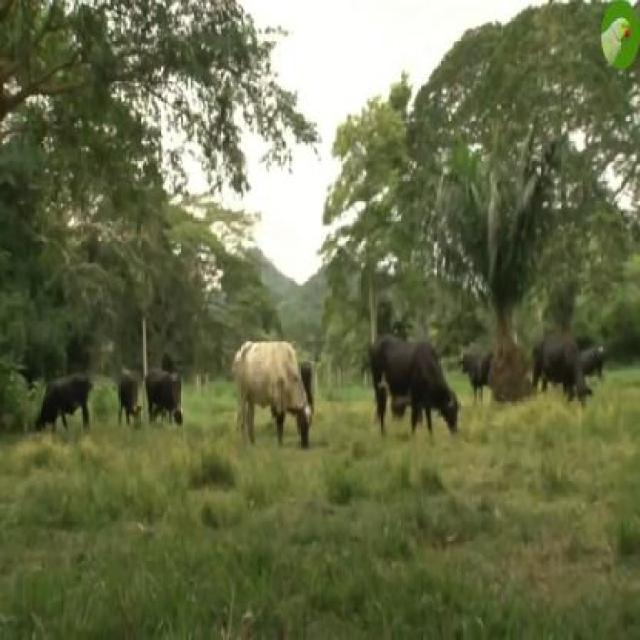Cow: (371, 335, 460, 437), (234, 341, 312, 454), (34, 372, 92, 442)
